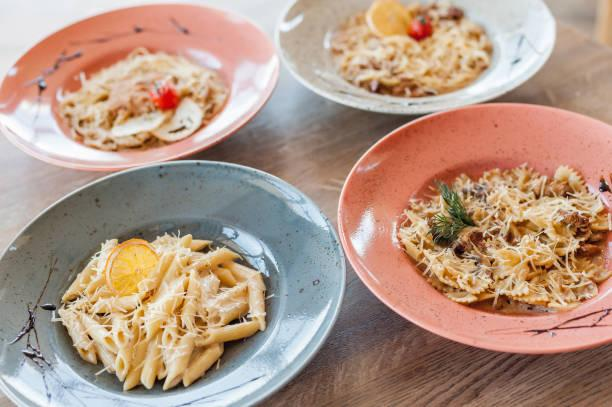Braised Crucian Carp: (0, 160, 341, 406), (338, 100, 612, 353), (1, 2, 279, 171), (272, 0, 561, 118)
